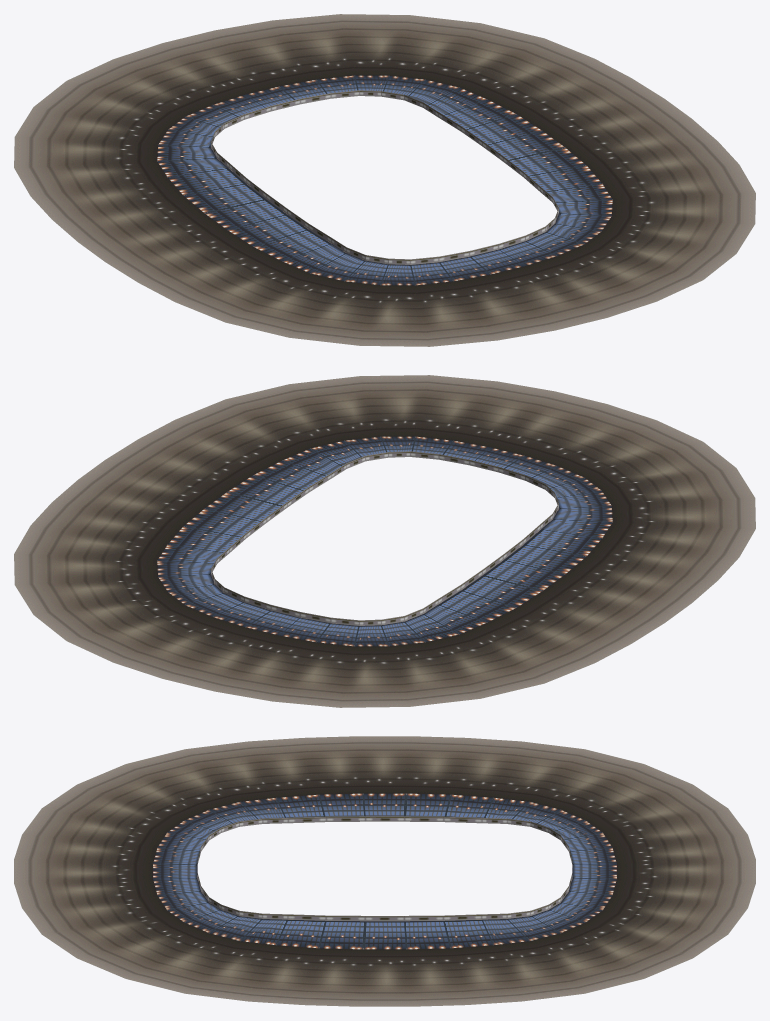
3 renders of one model, top to bottom at view 1: azimuth 30°, elevation 25°; view 2: azimuth 150°, elevation 25°; view 3: azimuth 270°, elevation 25°, orthographic. The views are drawn at different scales.
Size of the model in its own units: 217 by 2 by 252.
Materials: 3 (3 with a texture image).
